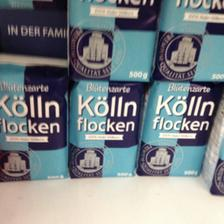Cerealien: (0, 68, 68, 182), (140, 78, 216, 176), (68, 76, 140, 178), (70, 0, 150, 80), (155, 0, 221, 80)
